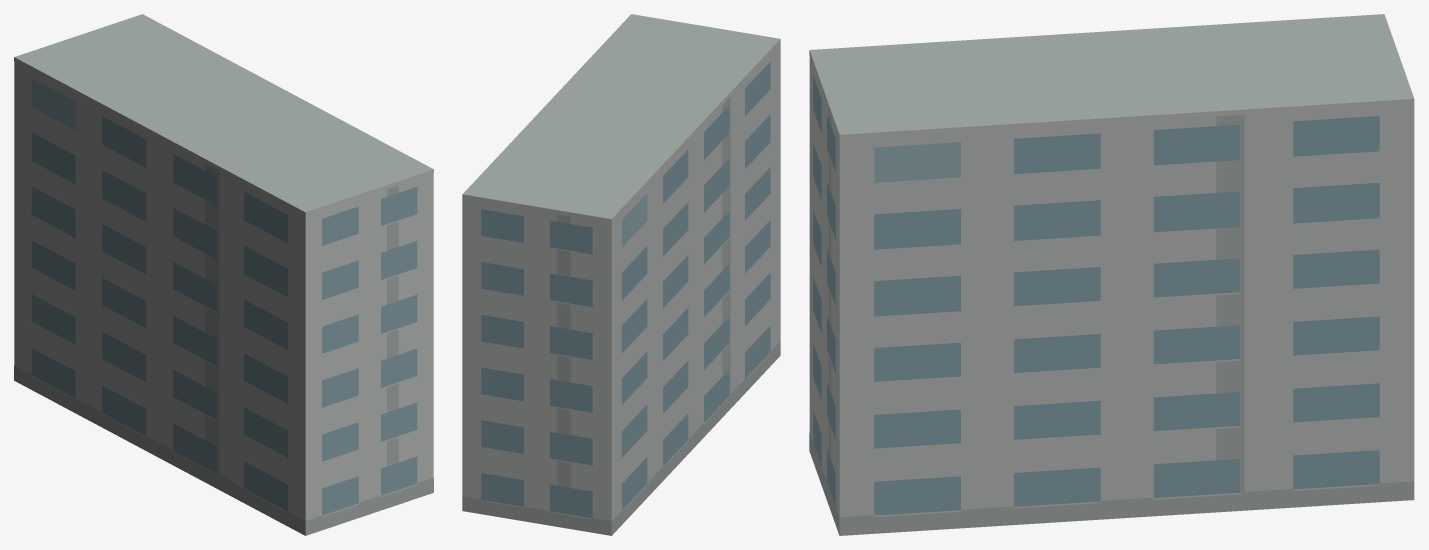
The model's file is survey-upis-32575270.glb.
The picture shows the model from 3 angles, left to right: view 1: azimuth 30°, elevation 25°; view 2: azimuth 150°, elevation 25°; view 3: azimuth 270°, elevation 25°; orthographic projection. The views are drawn at different scales.
Parts seen in each view (by area): view 1: survey-upis-32575270.tmp; view 2: survey-upis-32575270.tmp; view 3: survey-upis-32575270.tmp.
Boxes of the visible parts, x1,y1,x2,y2 form: survey-upis-32575270.tmp: (14, 14, 433, 535); survey-upis-32575270.tmp: (462, 14, 780, 535); survey-upis-32575270.tmp: (809, 14, 1414, 535).
Size of the model in its own units: 12.09 by 18.7 by 25.57.
